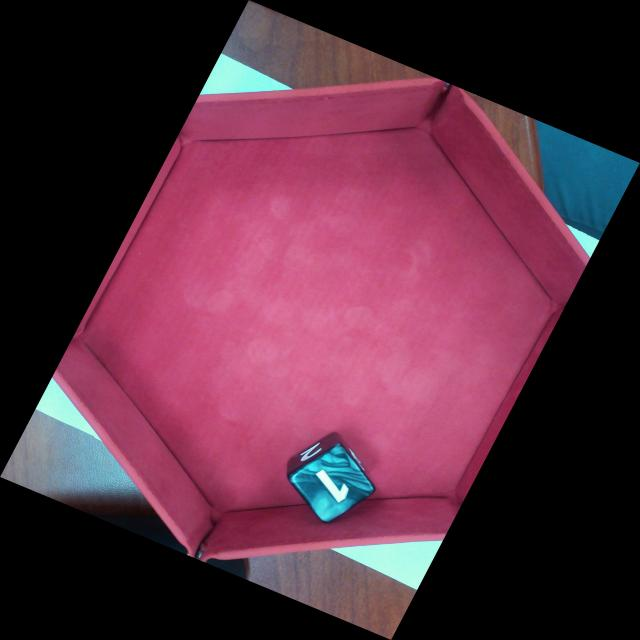dice: (284, 440, 379, 525)
